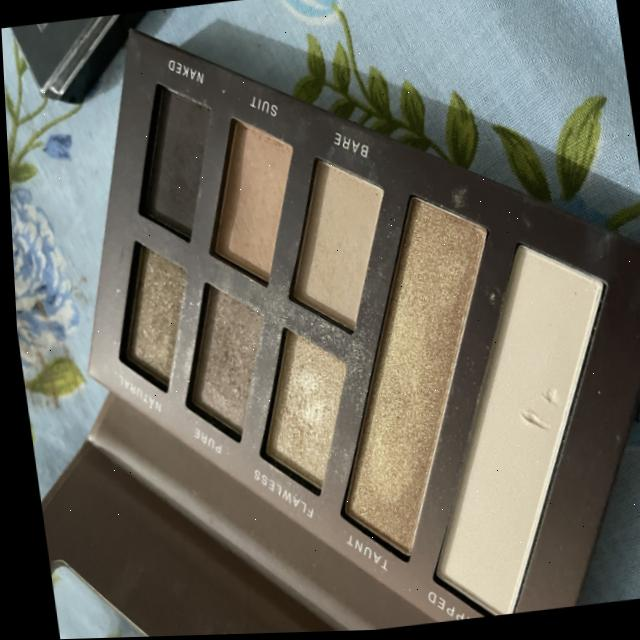eye shade: (268, 163, 640, 634), (263, 130, 402, 354), (241, 307, 350, 520), (84, 232, 206, 400), (120, 60, 222, 256), (199, 102, 291, 290), (173, 282, 266, 452)
